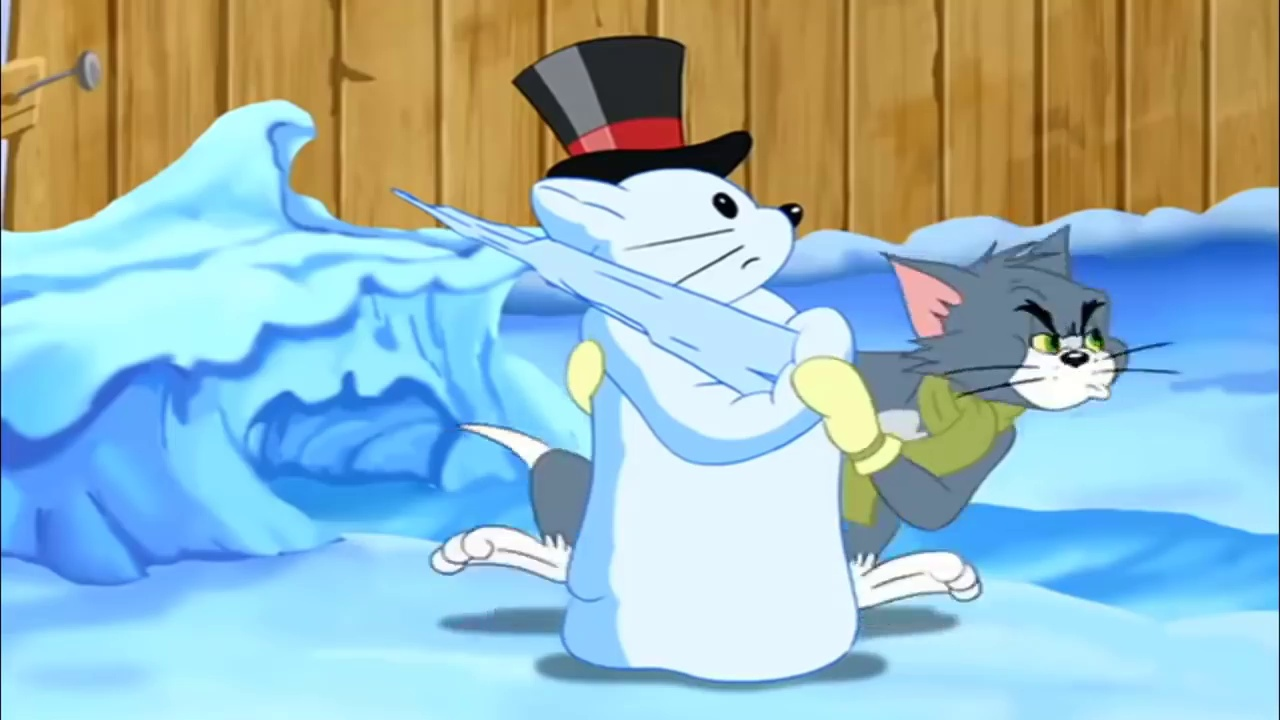face: (995, 284, 1123, 412)
